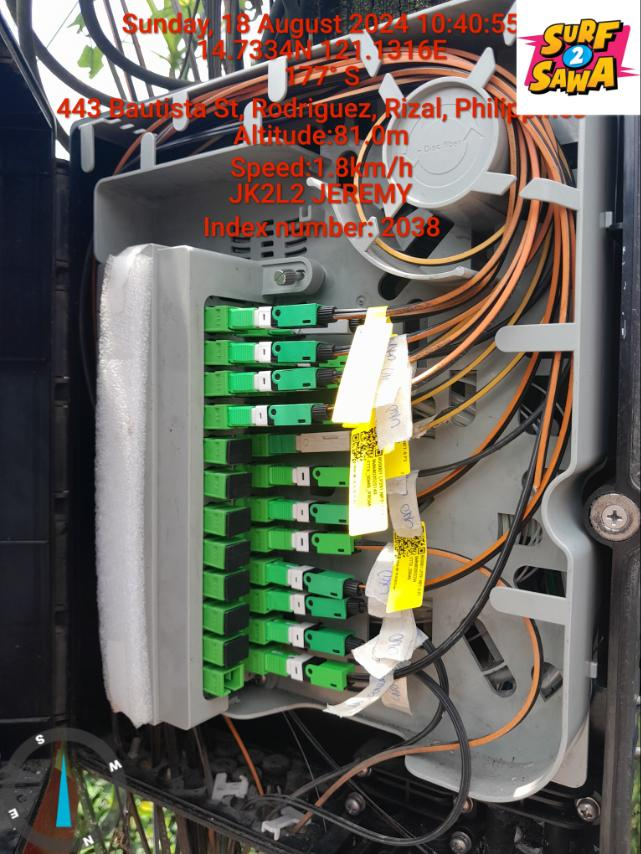no dust cap: (223, 666, 243, 696)
occupied: (267, 559, 363, 603), (265, 647, 358, 692), (267, 618, 362, 659), (228, 366, 337, 394), (267, 591, 365, 622), (227, 402, 337, 429), (228, 339, 338, 366), (228, 304, 337, 331), (268, 529, 361, 555), (268, 500, 355, 527), (269, 313, 362, 337), (272, 368, 353, 394), (270, 432, 354, 457), (269, 401, 351, 426), (270, 465, 355, 488), (272, 347, 354, 367)
vacant: (225, 634, 248, 668), (226, 568, 249, 602), (225, 603, 248, 636), (227, 507, 250, 537), (227, 541, 250, 570), (228, 472, 251, 500), (227, 439, 251, 465)
